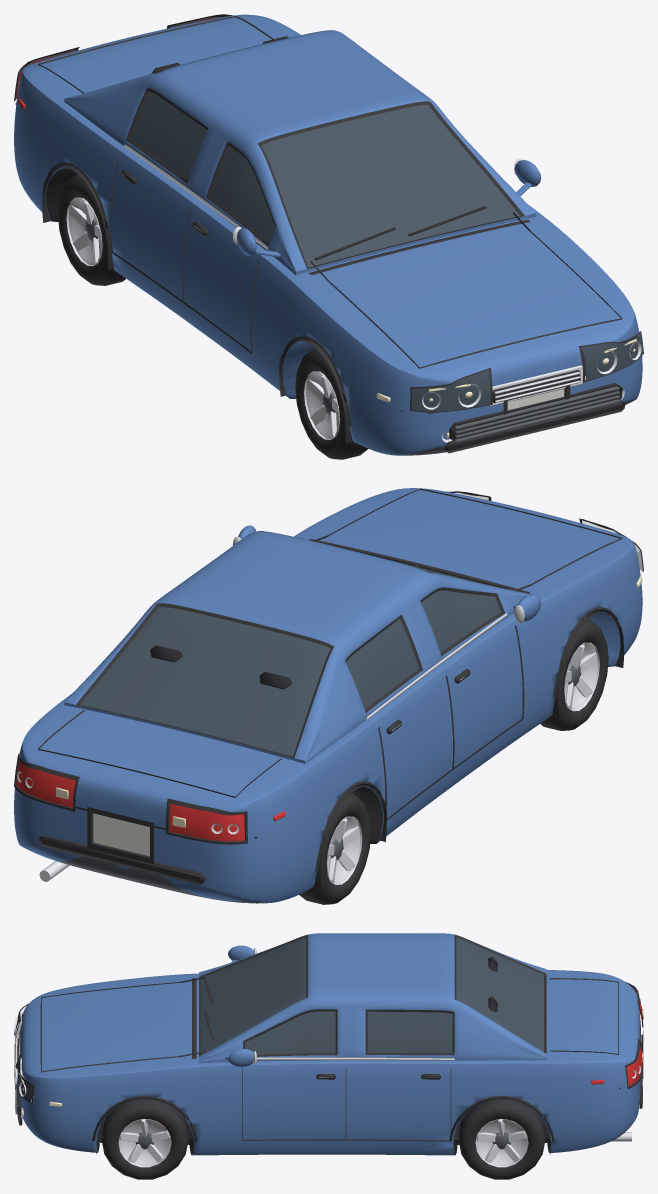
Rendered from CarV3_Sedan.fbx.
The picture shows the model from 3 angles, top to bottom: view 1: azimuth 30°, elevation 25°; view 2: azimuth 150°, elevation 25°; view 3: azimuth 270°, elevation 25°; orthographic projection. The views are drawn at different scales.
Parts seen in each view (by area): view 1: CarV3_Sedan; view 2: CarV3_Sedan; view 3: CarV3_Sedan.
Part boxes in pixels (x1,y1,x2,y2): CarV3_Sedan: (14, 14, 643, 459); CarV3_Sedan: (14, 488, 643, 904); CarV3_Sedan: (14, 933, 643, 1179).
Bounding box in the file's own units: 1.95 × 1.45 × 4.8.
